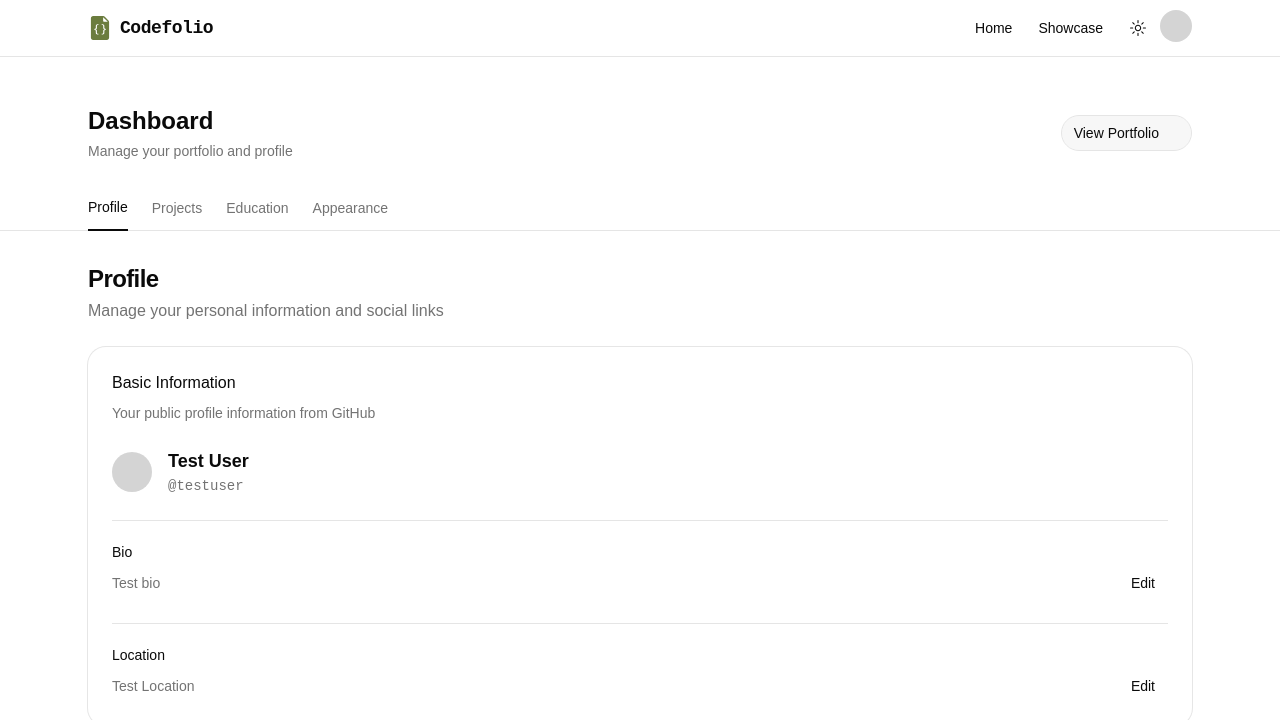
it: Project Management › should edit an existing project
Click the button "Projects".
click(178, 208)  # box [152,185,203,231]
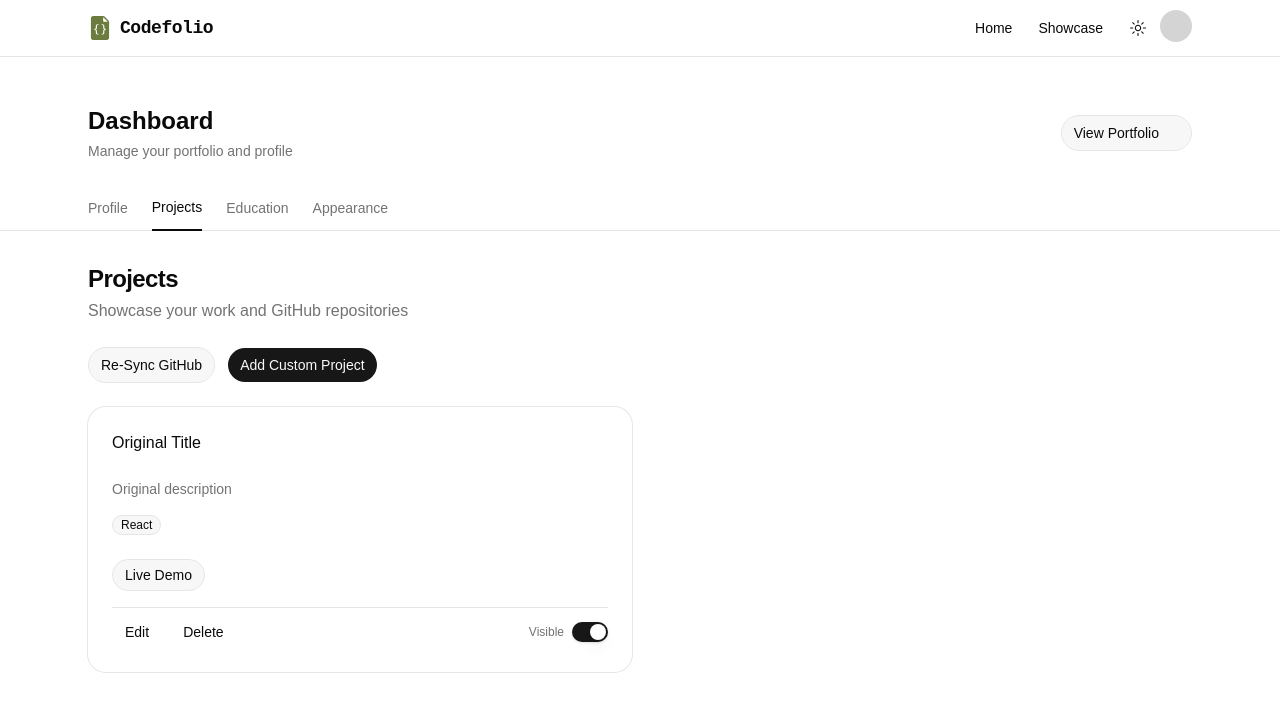
Now the text "Original Title" is shown, box [112,431,201,455]
Click the button "Edit".
click(137, 632)  # box [112,616,162,648]
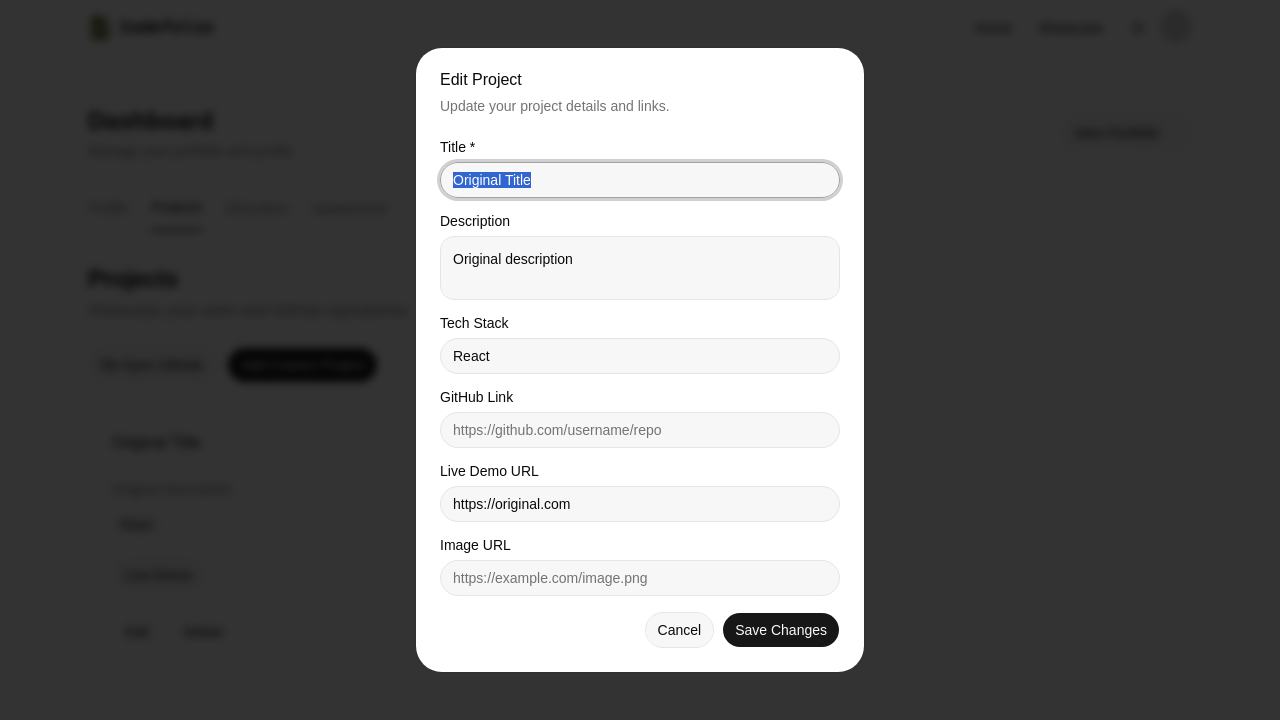
Replace the text in the field with id "edit-title" with "Updated Title" at (640, 180), box [440,162,840,198]
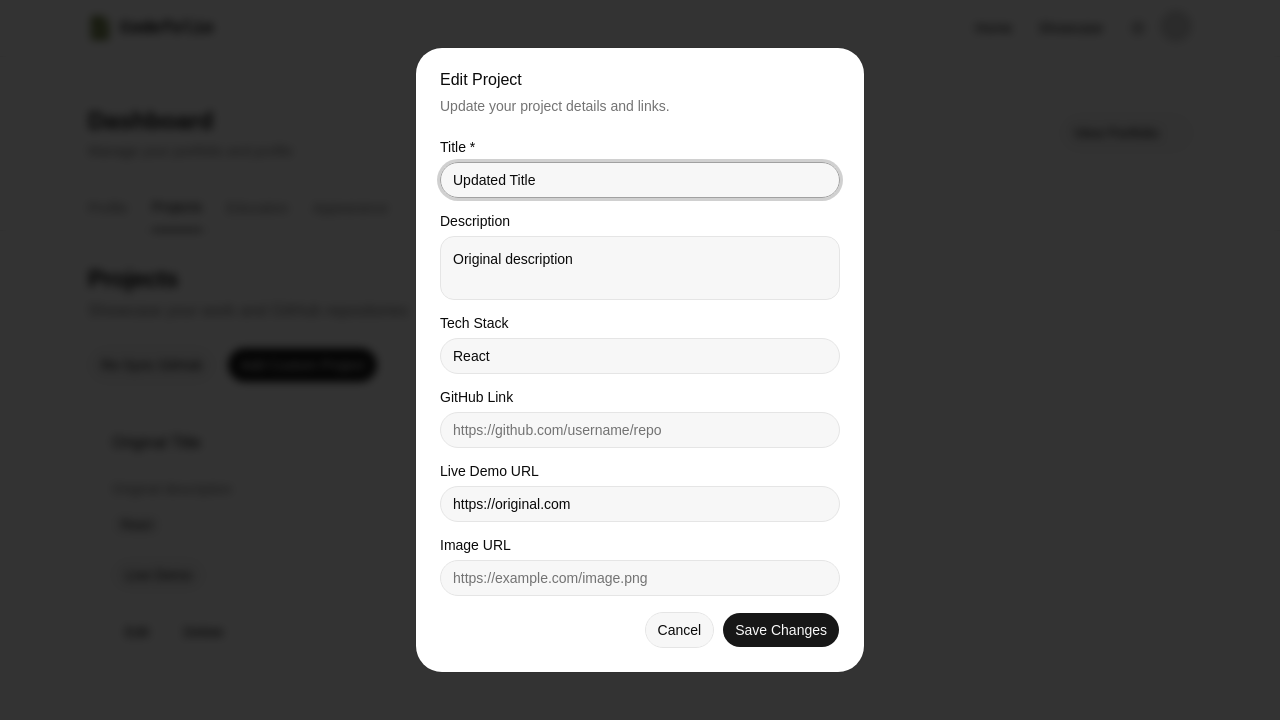
Replace the text in the text box with id "edit-description" with "Updated description" at (640, 268), box [440,236,840,300]
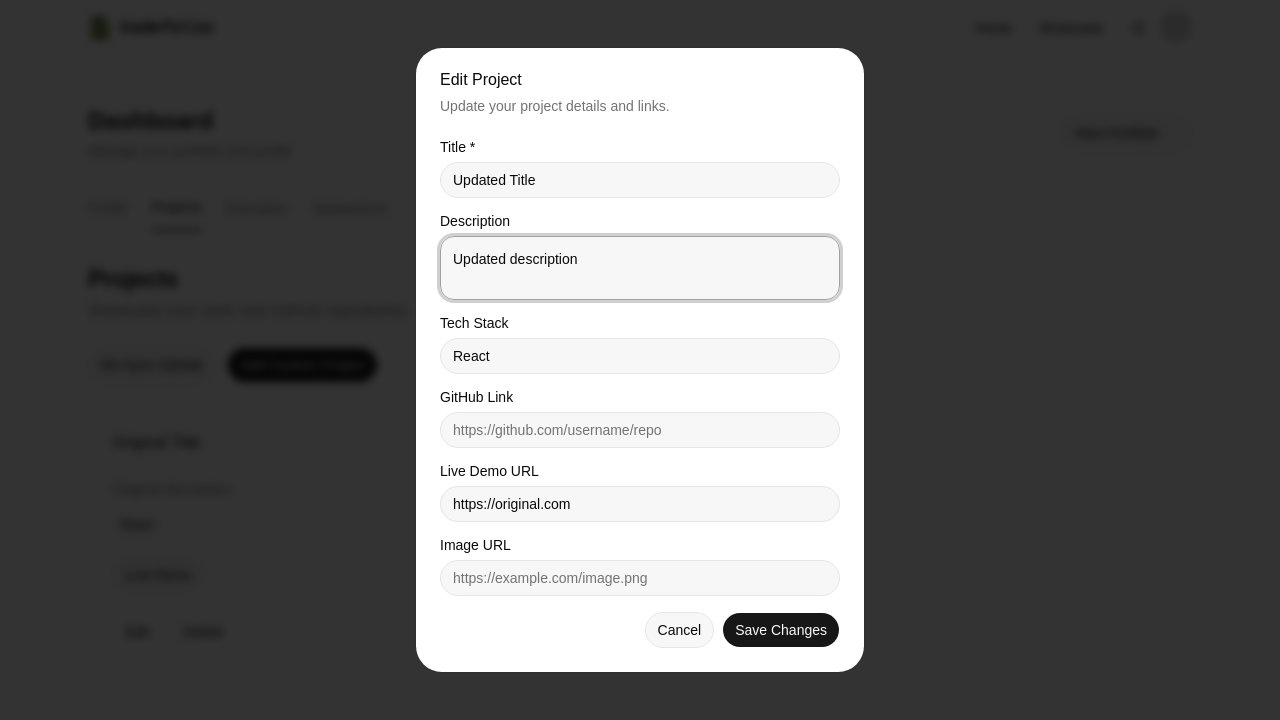
Replace the text in the field with id "edit-liveDemo" with "https://updated.com" at (640, 504), box [440,486,840,522]
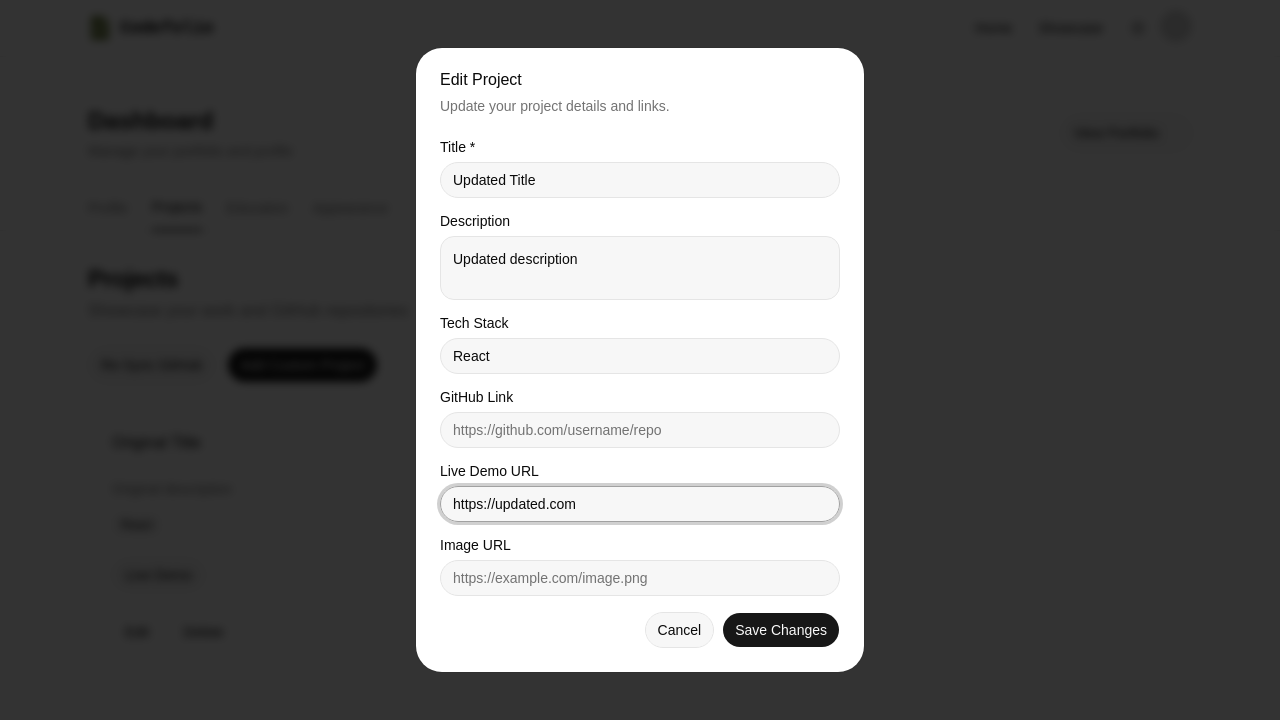
Click the button "Save Changes".
click(781, 630)  # box [722,612,840,648]
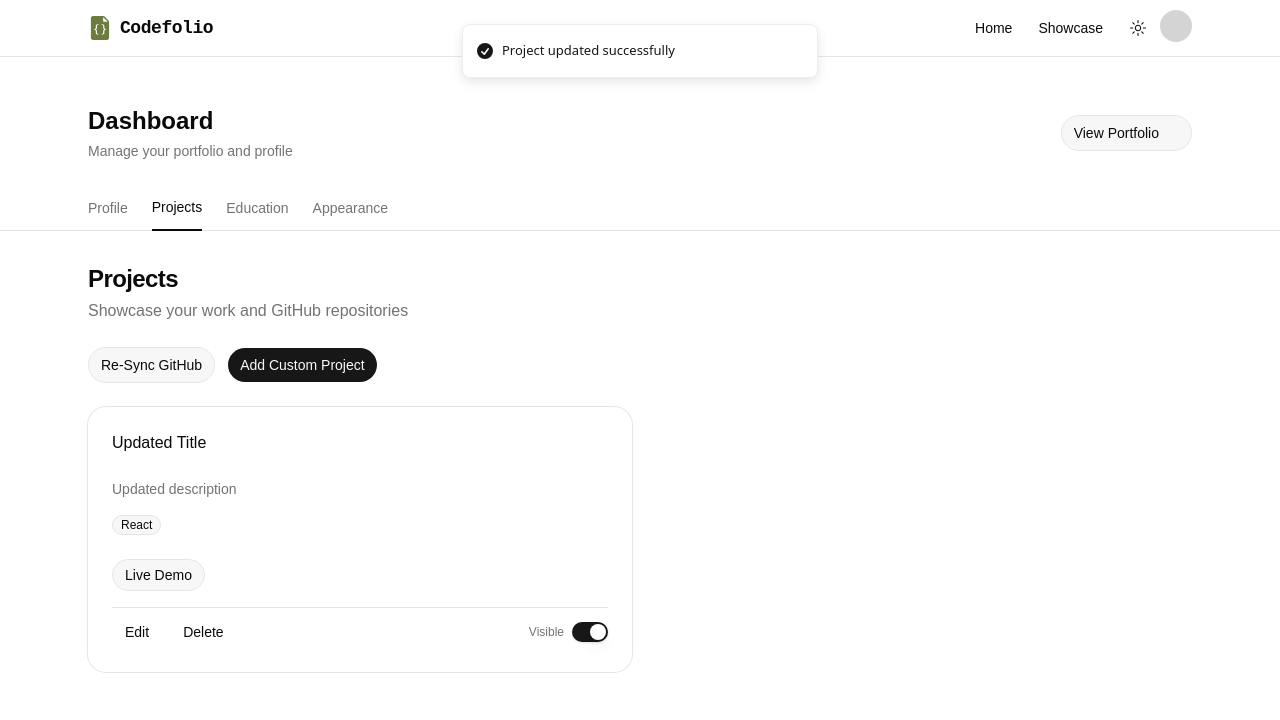
Now the text "Updated Title" is shown, box [112,431,206,455]
Now the text "Updated description" is shown, box [112,481,236,497]
